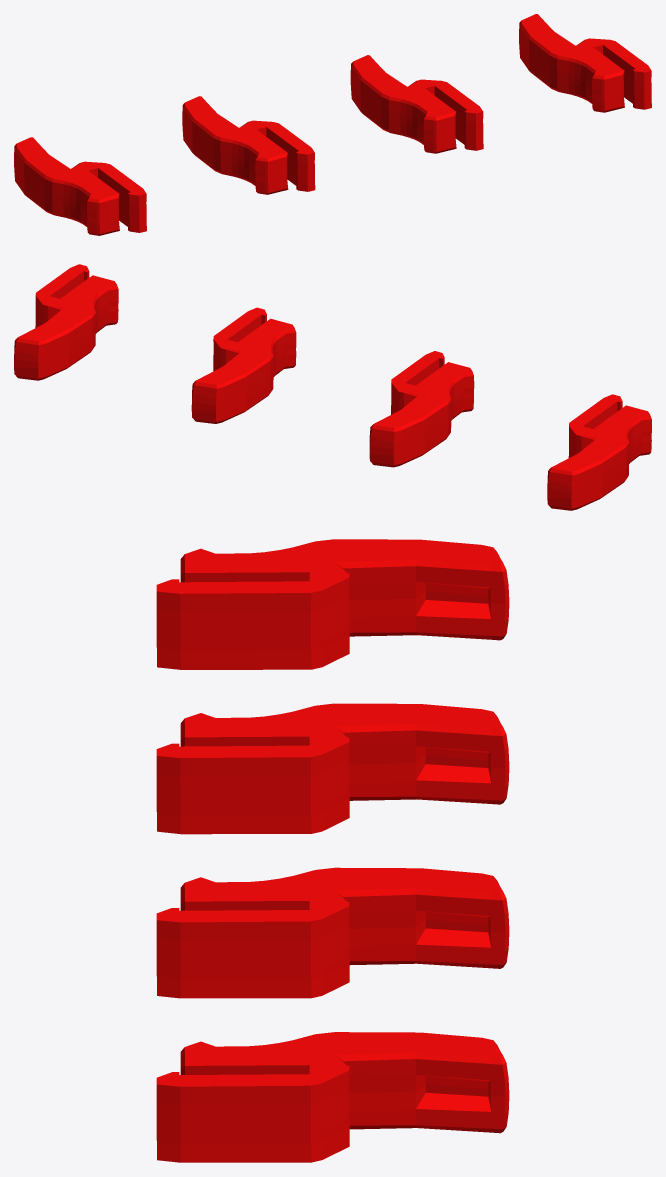
The model's file is desktop_trunk_clamps.glb.
3 renders of one model, top to bottom at view 1: azimuth 30°, elevation 25°; view 2: azimuth 150°, elevation 25°; view 3: azimuth 270°, elevation 25°, orthographic. The views are drawn at different scales.
Parts seen in each view (by area): view 1: Dragon Trunk 010, Dragon Trunk 011, Dragon Trunk 009, Dragon Trunk 006; view 2: Dragon Trunk 011, Dragon Trunk 010, Dragon Trunk 009, Dragon Trunk 006; view 3: Dragon Trunk 006, Dragon Trunk 011, Dragon Trunk 010, Dragon Trunk 009.
Boxes of the visible parts, x1,y1,x2,y2 form: Dragon Trunk 010: (350,55,483,153); Dragon Trunk 011: (519,14,651,112); Dragon Trunk 009: (182,96,315,194); Dragon Trunk 006: (14,137,146,235); Dragon Trunk 011: (14,264,118,380); Dragon Trunk 010: (191,307,296,423); Dragon Trunk 009: (369,351,474,467); Dragon Trunk 006: (547,394,651,510); Dragon Trunk 006: (156,539,509,669); Dragon Trunk 011: (156,1032,509,1162); Dragon Trunk 010: (156,867,509,998); Dragon Trunk 009: (156,703,509,834).
Bounding box in the file's own units: 0.0509 × 0.00329 × 0.0138.
